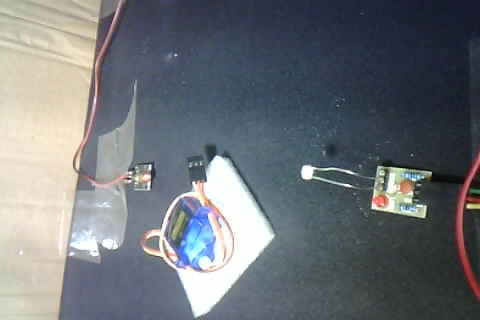motor: (152, 155, 266, 312)
